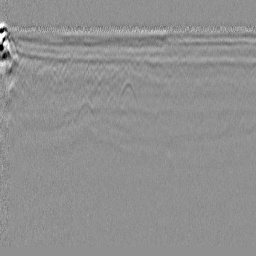cavity: (118, 77, 138, 107)
